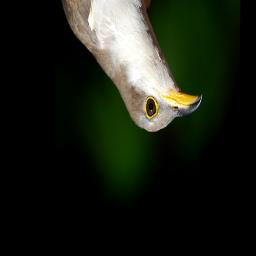Cuckoo: (56, 0, 202, 134)
